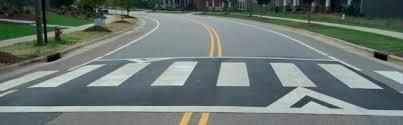speedbreaker: (22, 58, 395, 114)
